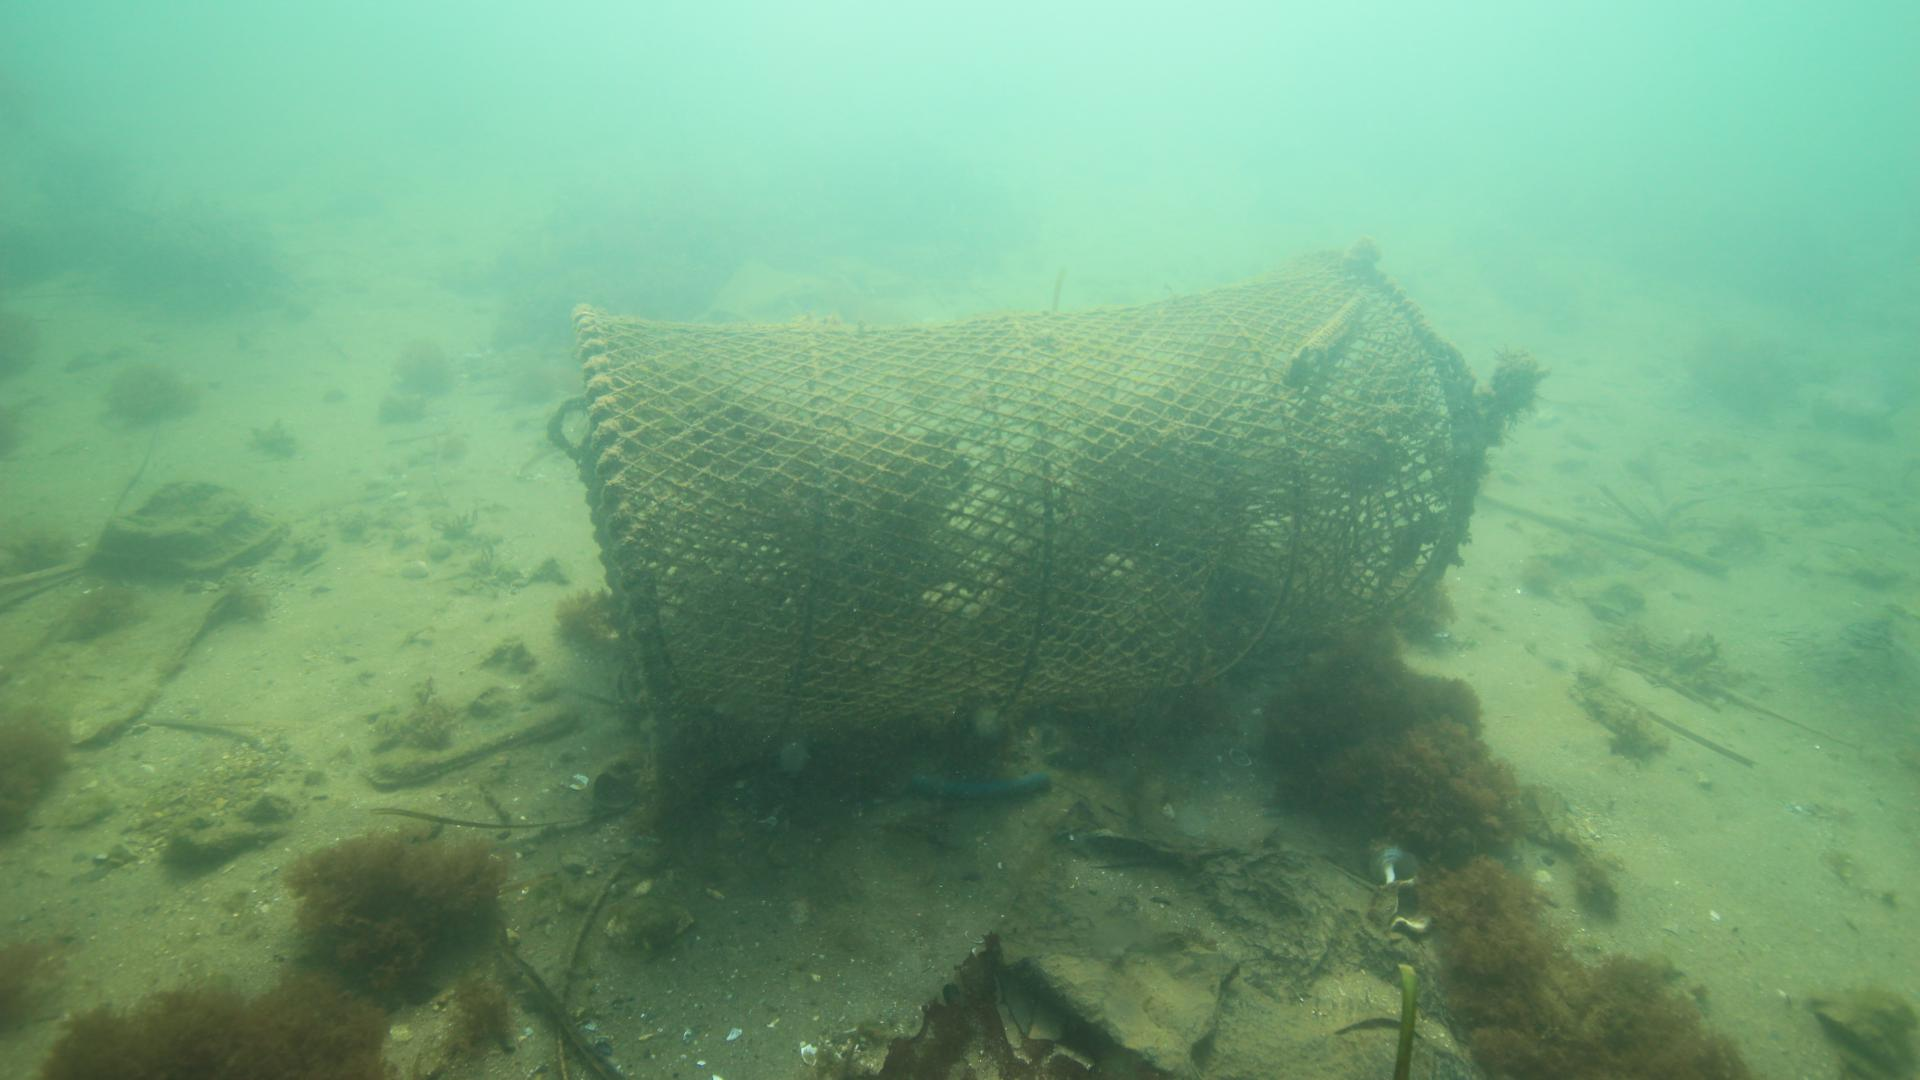spring fish trap: (570, 252, 1478, 802)
